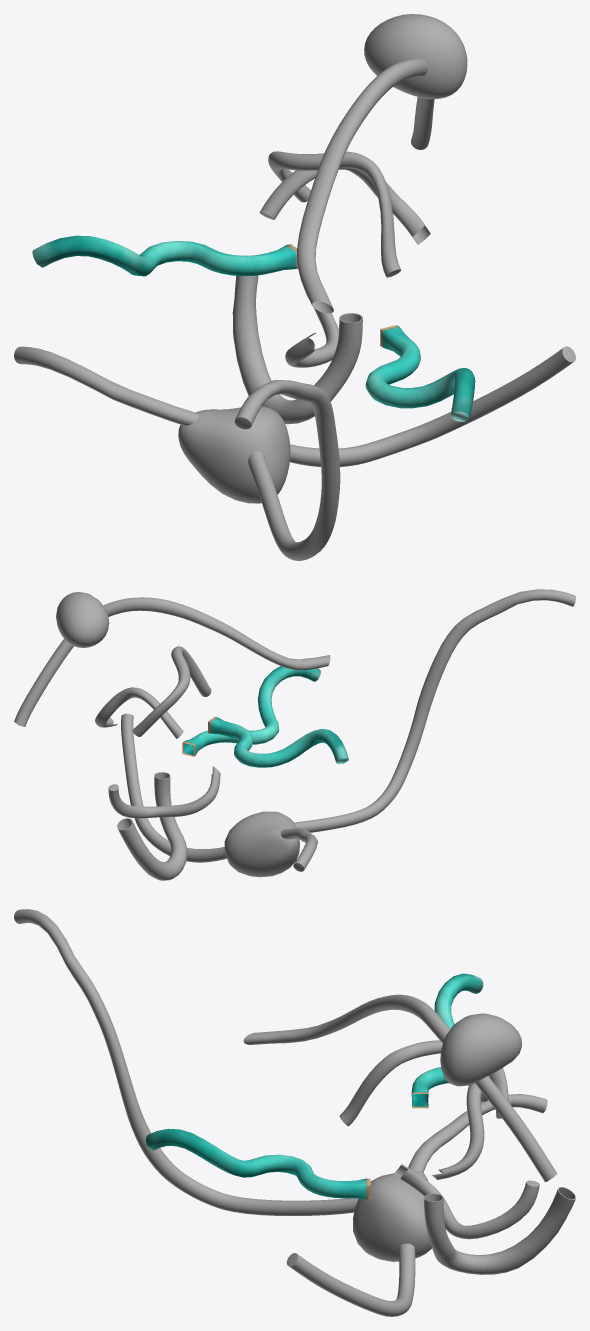
Rendered from Lvl2MiscsNew.fbx.
3 renders of one model, top to bottom at view 1: azimuth 30°, elevation 25°; view 2: azimuth 150°, elevation 25°; view 3: azimuth 270°, elevation 25°, orthographic. The views are drawn at different scales.
Parts seen in each view (by area): view 1: Nerv4, pSphere2, Nerv6, Nerv5, pSphere1, BottomPipe, Exit, Entrance, Nerv1, Nerv2, Nerv3; view 2: Nerv6, Nerv5, pSphere2, Nerv4, BottomPipe, Exit, pSphere1, Entrance, Nerv1, Nerv3, Nerv2; view 3: Nerv6, pSphere2, Nerv5, Nerv4, BottomPipe, pSphere1, Entrance, Nerv3, Nerv1, Exit, Nerv2.
Boxes of the visible parts, left/top/right/bottom form: Nerv4: left=14, top=346, right=575, bottom=466; pSphere2: left=178, top=406, right=290, bottom=503; Nerv6: left=234, top=380, right=340, bottom=560; Nerv5: left=297, top=58, right=434, bottom=313; pSphere1: left=364, top=14, right=467, bottom=98; BottomPipe: left=232, top=275, right=362, bottom=424; Exit: left=32, top=235, right=297, bottom=276; Entrance: left=365, top=325, right=475, bottom=421; Nerv1: left=268, top=151, right=400, bottom=277; Nerv2: left=259, top=168, right=430, bottom=244; Nerv3: left=285, top=308, right=338, bottom=367; Nerv6: left=294, top=589, right=575, bottom=832; Nerv5: left=14, top=597, right=330, bottom=726; pSphere2: left=224, top=811, right=299, bottom=877; Nerv4: left=121, top=713, right=317, bottom=871; BottomPipe: left=117, top=772, right=187, bottom=880; Exit: left=208, top=716, right=348, bottom=767; pSphere1: left=56, top=592, right=109, bottom=647; Entrance: left=182, top=666, right=320, bottom=756; Nerv1: left=132, top=646, right=211, bottom=736; Nerv3: left=108, top=766, right=220, bottom=818; Nerv2: left=95, top=687, right=183, bottom=738; Nerv6: left=14, top=909, right=358, bottom=1215; pSphere2: left=353, top=1170, right=431, bottom=1261; Nerv5: left=243, top=994, right=557, bottom=1181; Nerv4: left=286, top=1094, right=547, bottom=1316; BottomPipe: left=423, top=1187, right=575, bottom=1274; pSphere1: left=440, top=1013, right=521, bottom=1086; Entrance: left=145, top=1128, right=370, bottom=1199; Nerv3: left=394, top=1164, right=539, bottom=1239; Nerv1: left=339, top=1040, right=508, bottom=1126; Exit: left=411, top=973, right=483, bottom=1108; Nerv2: left=432, top=1083, right=487, bottom=1179.
Bounding box in the file's own units: 65.18 × 48.13 × 74.52.
